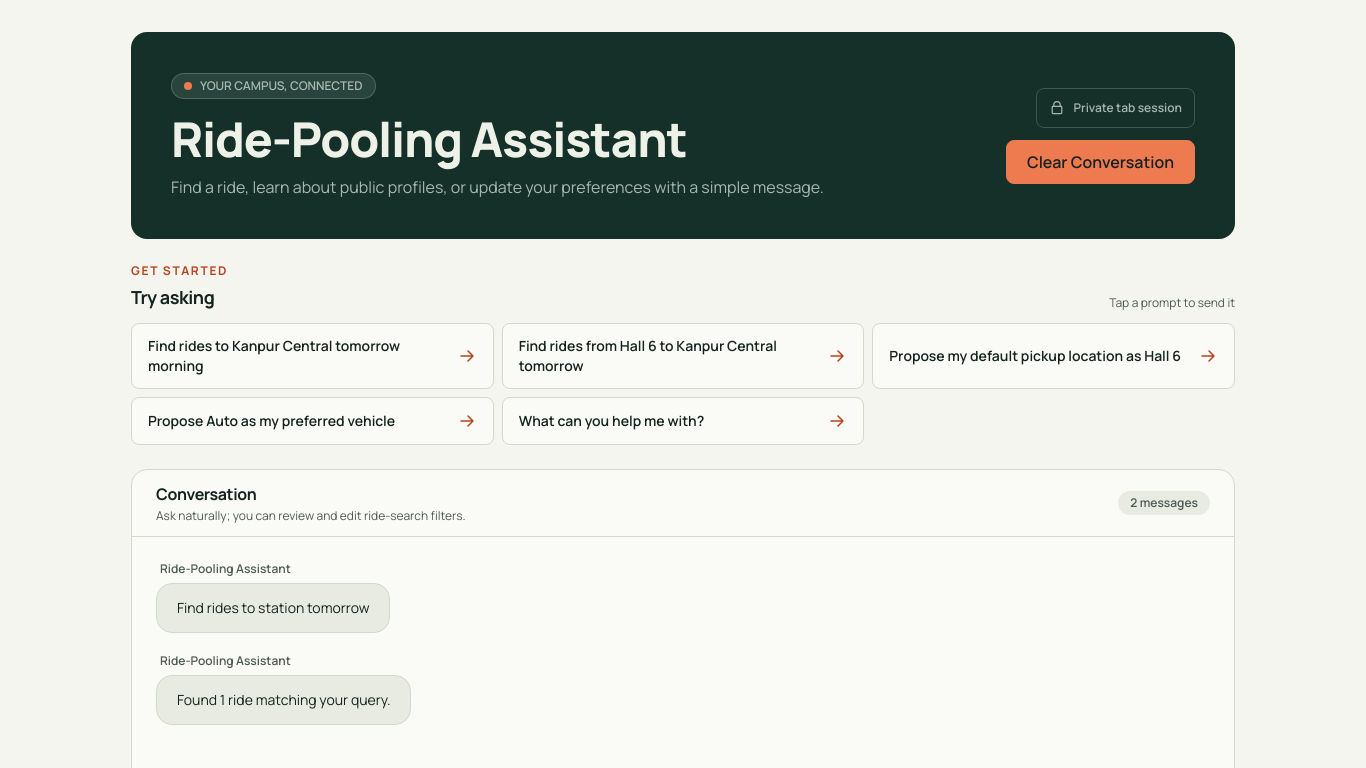
Test case: ChatbotInterface (FR-RD-05, UI & Session Isolation) › enforces tab-local sessionStorage isolation and Clear action (FR-RD-05.6)
The width and height of the screenshot is (1366, 768).
Check: the text "Find rides to station tomorrow" is shown, box [177, 596, 370, 620]
Check: the text "Found 1 ride matching your query." is shown, box [177, 688, 390, 712]
// Click "Clear Conversation"
Click the button "Clear Conversation": (1100, 162) [1006, 140, 1195, 184]
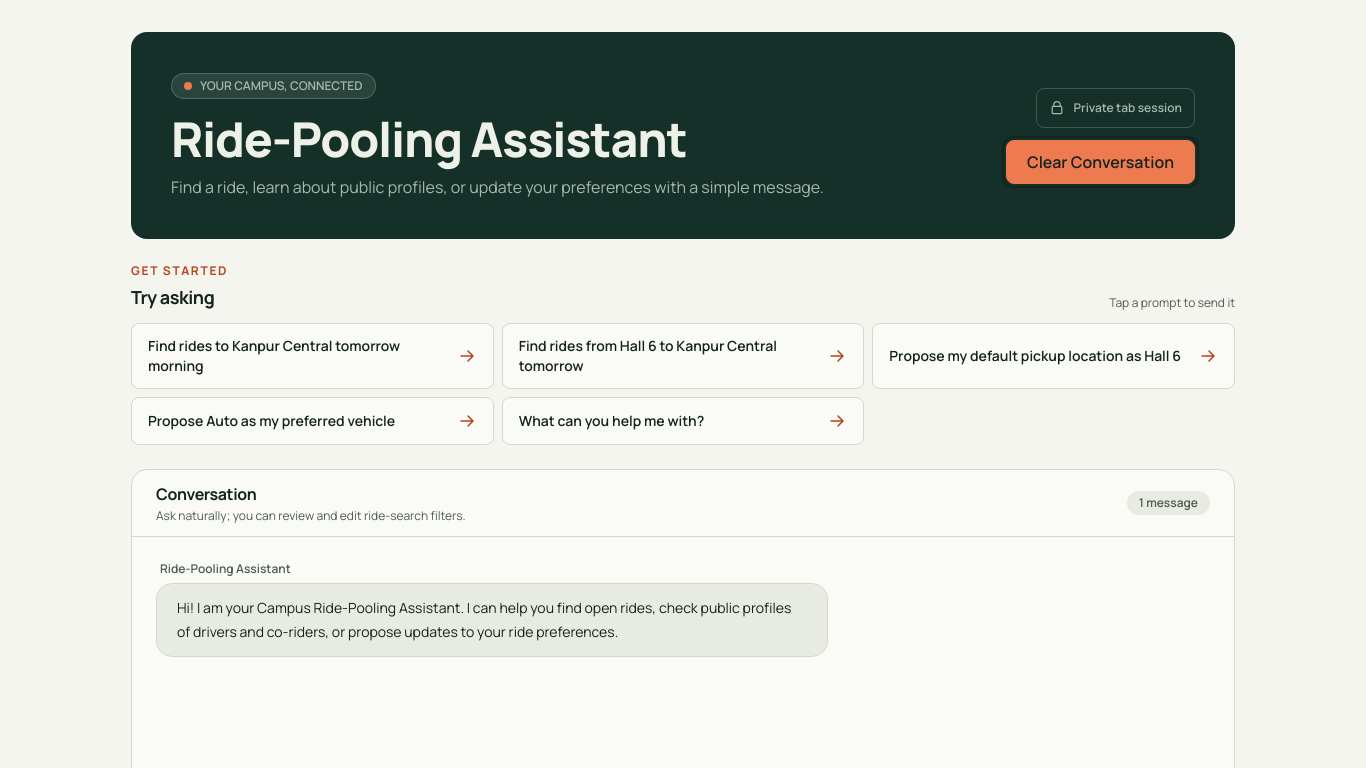
Check: the text "Find rides to station tomorrow" is gone
